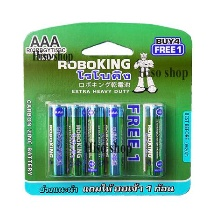battery: (142, 103, 167, 179), (102, 103, 127, 178), (83, 101, 107, 179), (63, 101, 87, 178), (46, 102, 68, 178)
book: (18, 20, 194, 199)
